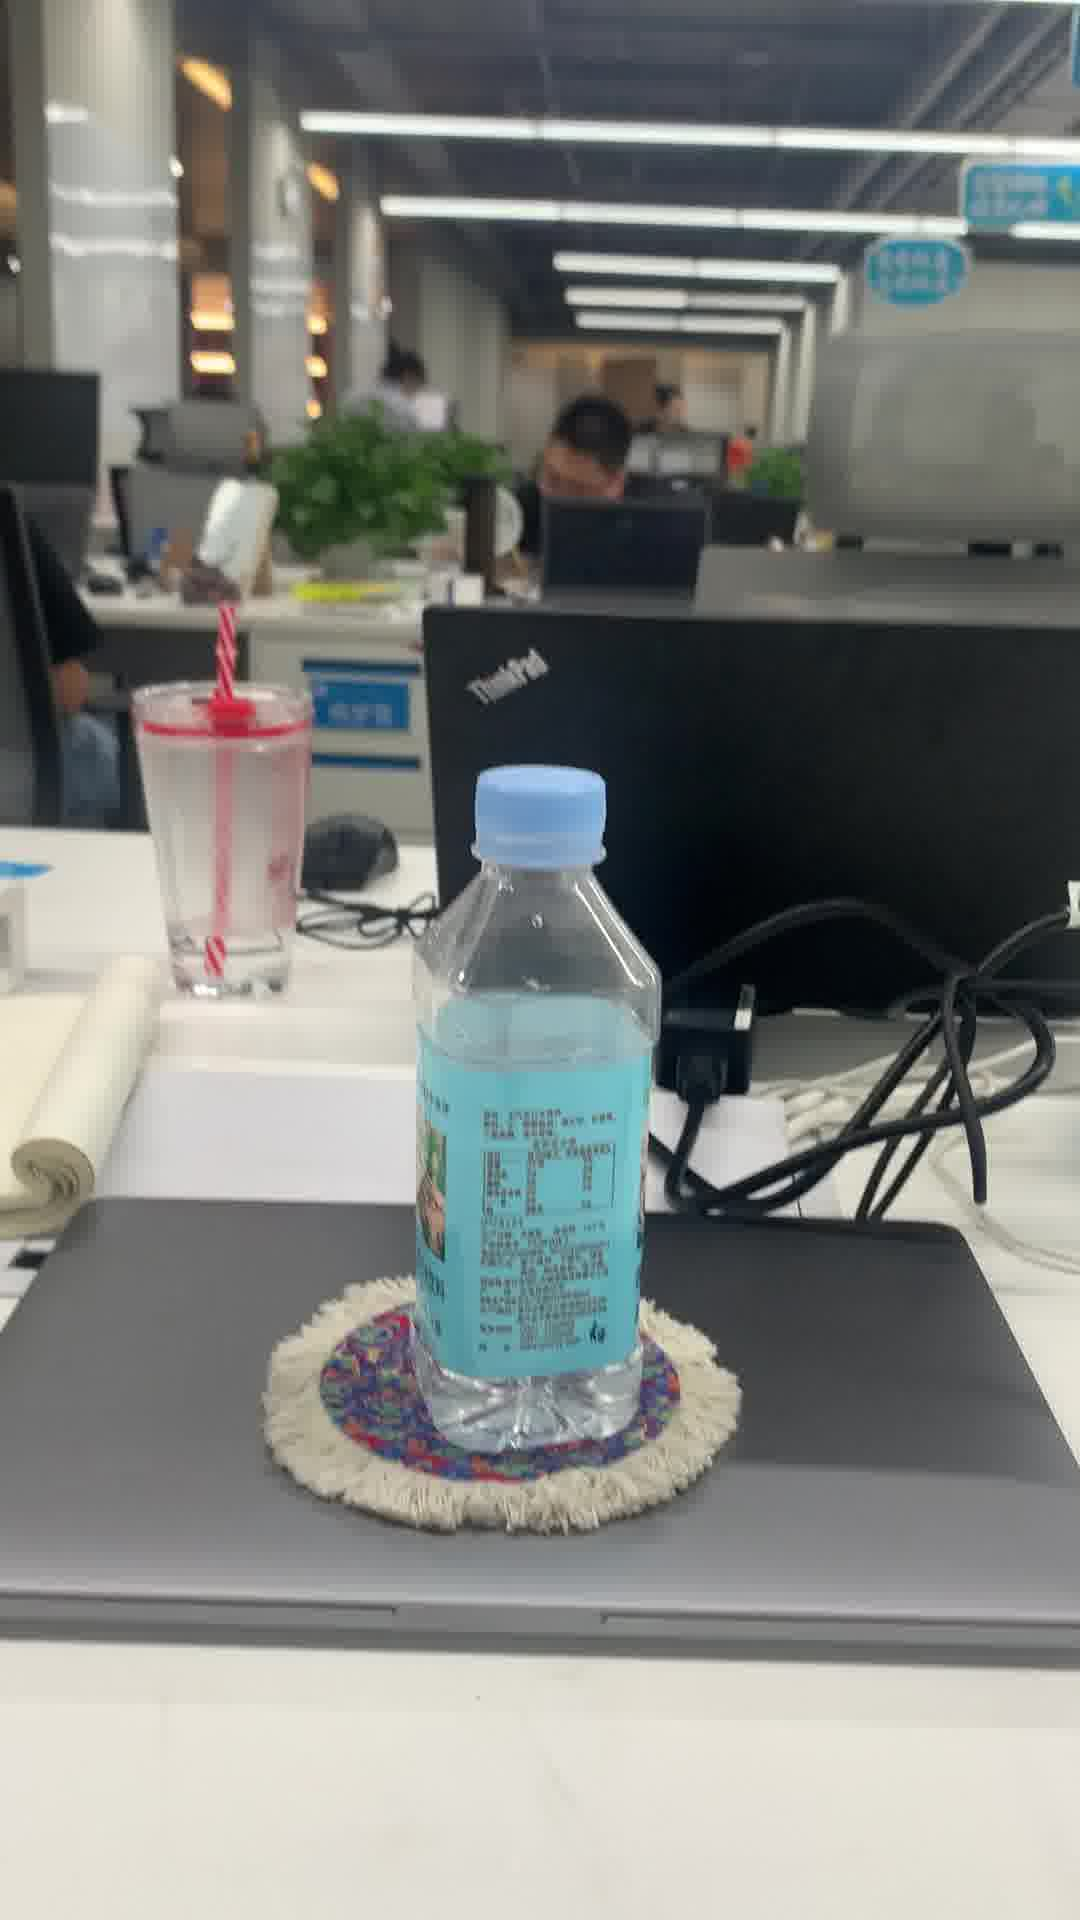水瓶: (404, 758, 669, 1462)
